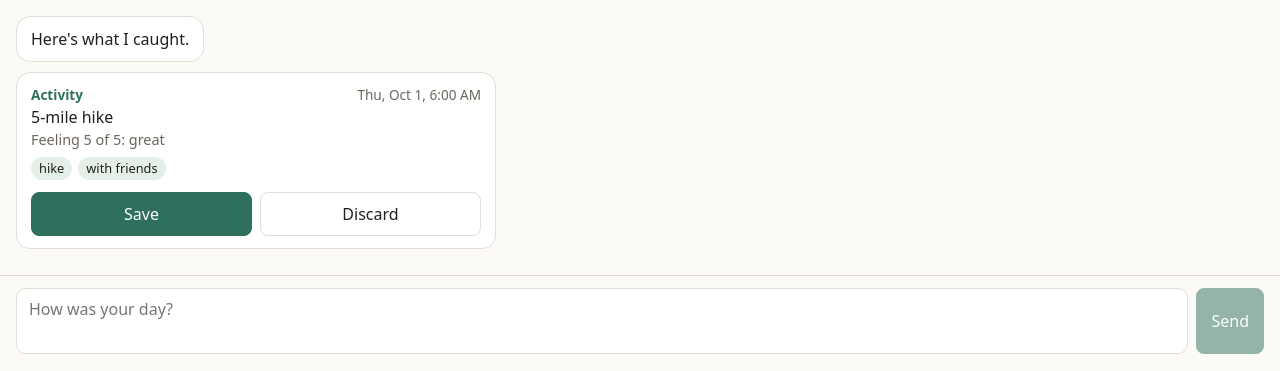
Test: confirmation cards › shows Discarded after Discard
This screenshot has width=1280, height=371.
Click the button "Discard": [370, 214] box [260,192,481,236]
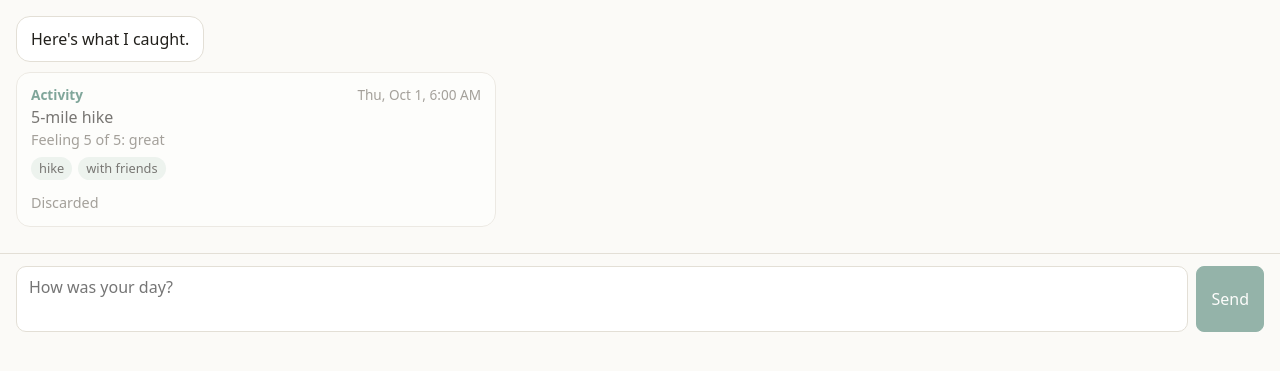
Expected: the text "Discarded" is shown, [31,193,99,212]
Expected: the button "Save" is gone
